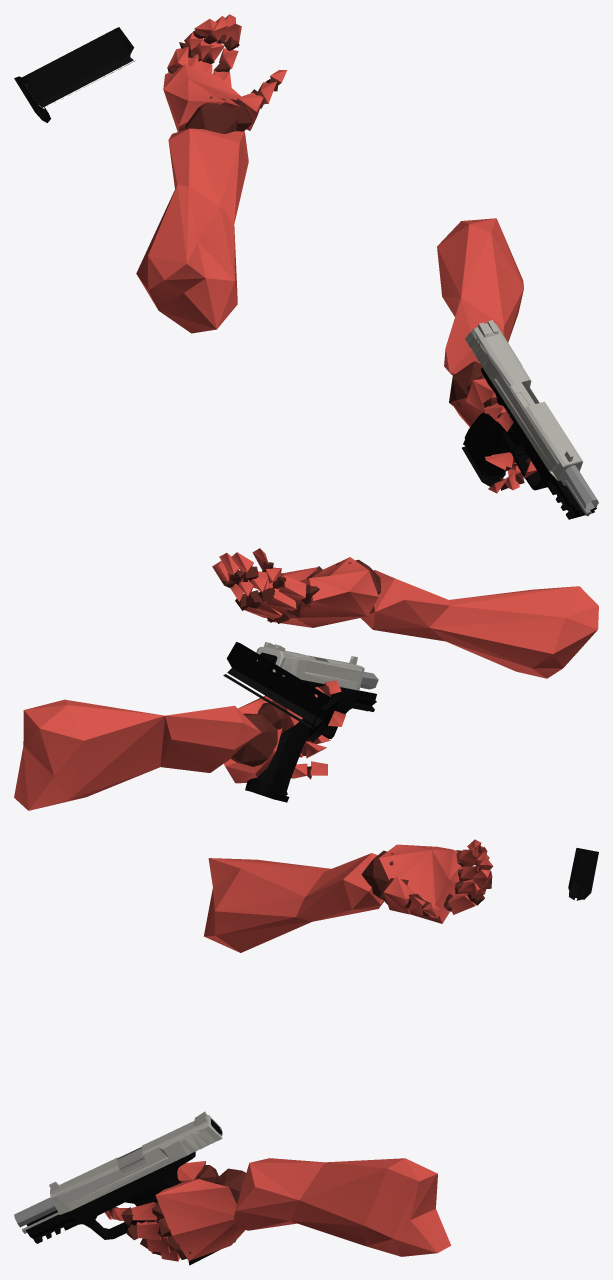
Rendered from M&P9reloadNormal1lowP_000119.obj.
The picture shows the model from 3 angles, top to bottom: view 1: azimuth 30°, elevation 25°; view 2: azimuth 150°, elevation 25°; view 3: azimuth 270°, elevation 25°; orthographic projection. The views are drawn at different scales.
Visible parts, largest first — view 1: Beta_Surface.001_Beta_Surface.002, slide_平面.002, triger_平面.001, magazine.002_平面.005, Beta_Joints.001_Beta_Joints.002; view 2: Beta_Surface.001_Beta_Surface.002, magazine.002_平面.005, Beta_Joints.001_Beta_Joints.002, triger_平面.001, slide_平面.002; view 3: Beta_Surface.001_Beta_Surface.002, slide_平面.002, triger_平面.001, Beta_Joints.001_Beta_Joints.002, magazine.002_平面.005.
Part boxes in pixels (left/top/right/bottom): Beta_Surface.001_Beta_Surface.002: left=136, top=14, right=536, bottom=493; slide_平面.002: left=465, top=320, right=583, bottom=485; triger_平面.001: left=463, top=367, right=598, bottom=519; magazine.002_平面.005: left=14, top=27, right=135, bottom=122; Beta_Joints.001_Beta_Joints.002: left=167, top=29, right=530, bottom=490; Beta_Surface.001_Beta_Surface.002: left=14, top=548, right=598, bottom=810; magazine.002_平面.005: left=223, top=642, right=339, bottom=742; Beta_Joints.001_Beta_Joints.002: left=222, top=559, right=381, bottom=779; triger_平面.001: left=245, top=659, right=378, bottom=795; slide_平面.002: left=256, top=642, right=364, bottom=690; Beta_Surface.001_Beta_Surface.002: left=104, top=839, right=493, bottom=1261; slide_平面.002: left=49, top=1111, right=222, bottom=1214; triger_平面.001: left=14, top=1151, right=235, bottom=1259; Beta_Joints.001_Beta_Joints.002: left=109, top=845, right=491, bottom=1259; magazine.002_平面.005: left=568, top=848, right=598, bottom=900.
Size of the model in its own units: 89.26 by 71.37 by 104.
